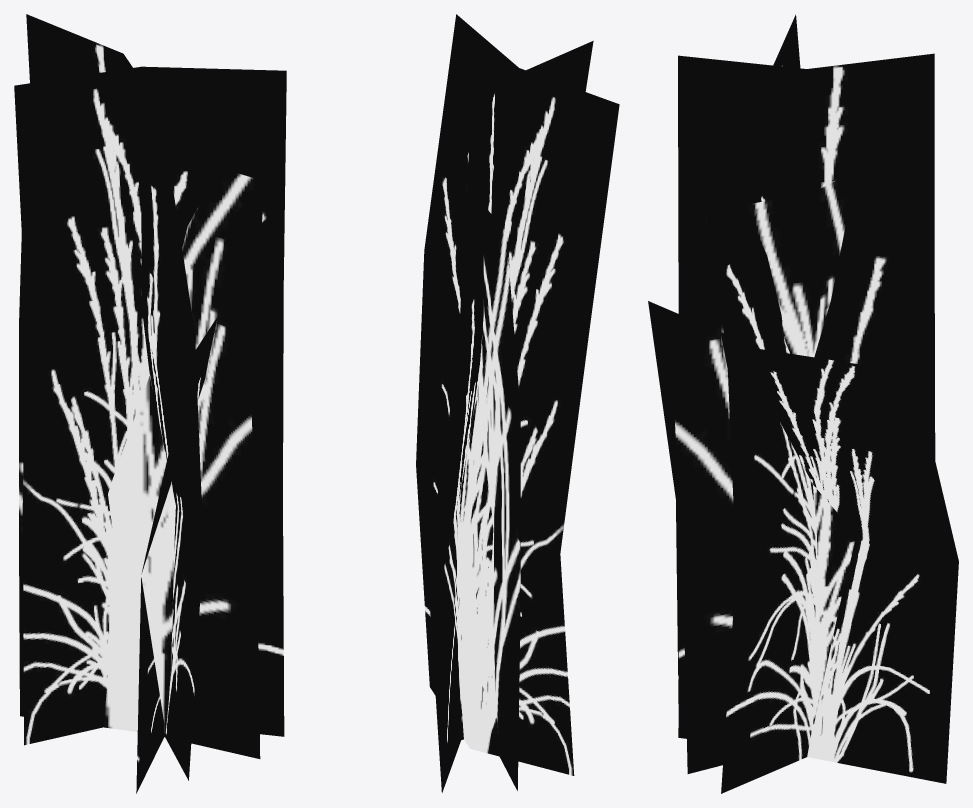
The model's file is Wheat2.fbx.
3 views of the same model, side by side, from view 1: azimuth 30°, elevation 25°; view 2: azimuth 150°, elevation 25°; view 3: azimuth 270°, elevation 25° (orthographic). The views are drawn at different scales.
Visible parts, largest first — view 1: Wheat2; view 2: Wheat2; view 3: Wheat2.
Part boxes in pixels (x1,y1,x2,y2): Wheat2: [14, 14, 286, 793]; Wheat2: [416, 14, 619, 792]; Wheat2: [648, 14, 958, 793].
Bounding box in the file's own units: 70.93 × 184 × 77.5.
1 material, 1 textured.
